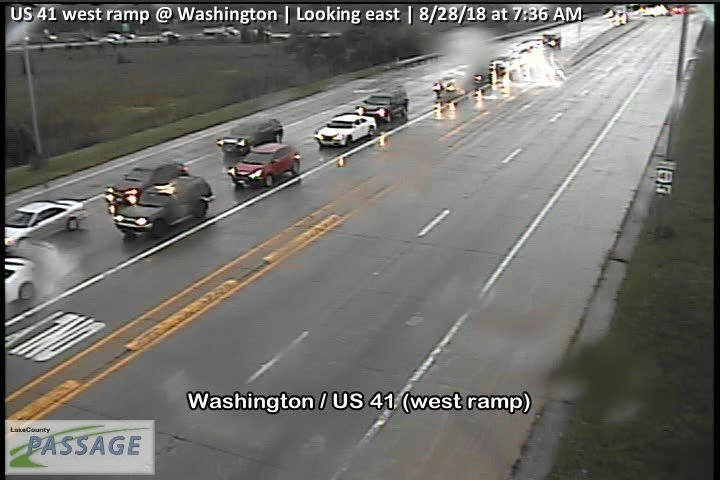SUV: (112, 175, 216, 240), (104, 161, 190, 209), (227, 143, 302, 188), (216, 118, 284, 155), (355, 91, 408, 123)
Sedan: (5, 199, 89, 253), (314, 113, 378, 148)
